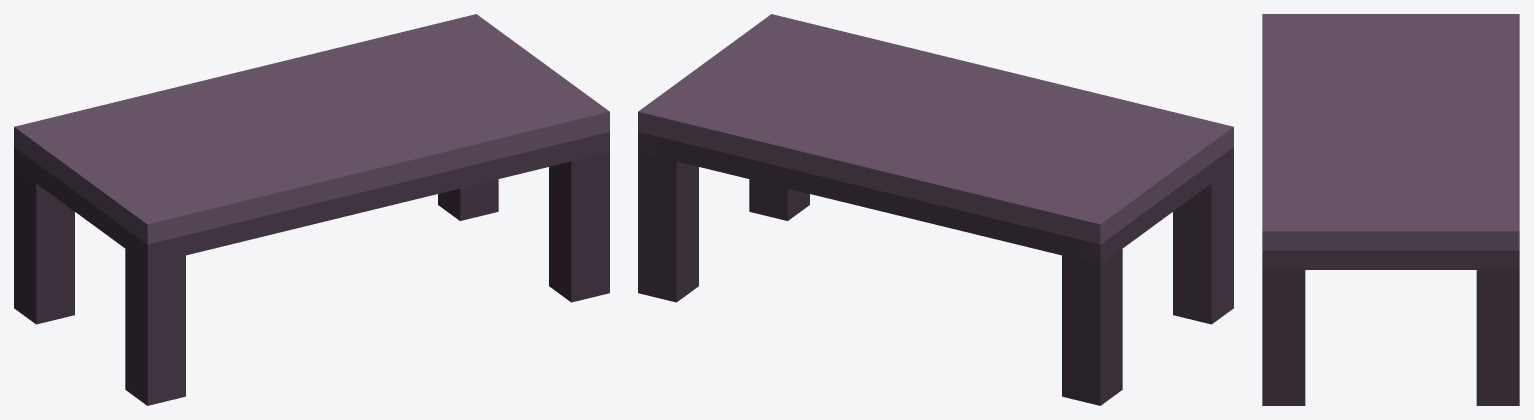
File: altar_oscuro_agrietado_01.glb
3 renders of one model, left to right at view 1: azimuth 30°, elevation 25°; view 2: azimuth 150°, elevation 25°; view 3: azimuth 270°, elevation 25°, orthographic. The views are drawn at different scales.
Visible parts, largest first — view 1: altar_oscuro_agrietado; view 2: altar_oscuro_agrietado; view 3: altar_oscuro_agrietado.
Part boxes in pixels (box(x1,y1,x2,y2)): altar_oscuro_agrietado: box(14, 14, 609, 405); altar_oscuro_agrietado: box(638, 14, 1233, 405); altar_oscuro_agrietado: box(1262, 14, 1519, 405).
Bounding box in the file's own units: 2 × 0.75 × 1.
